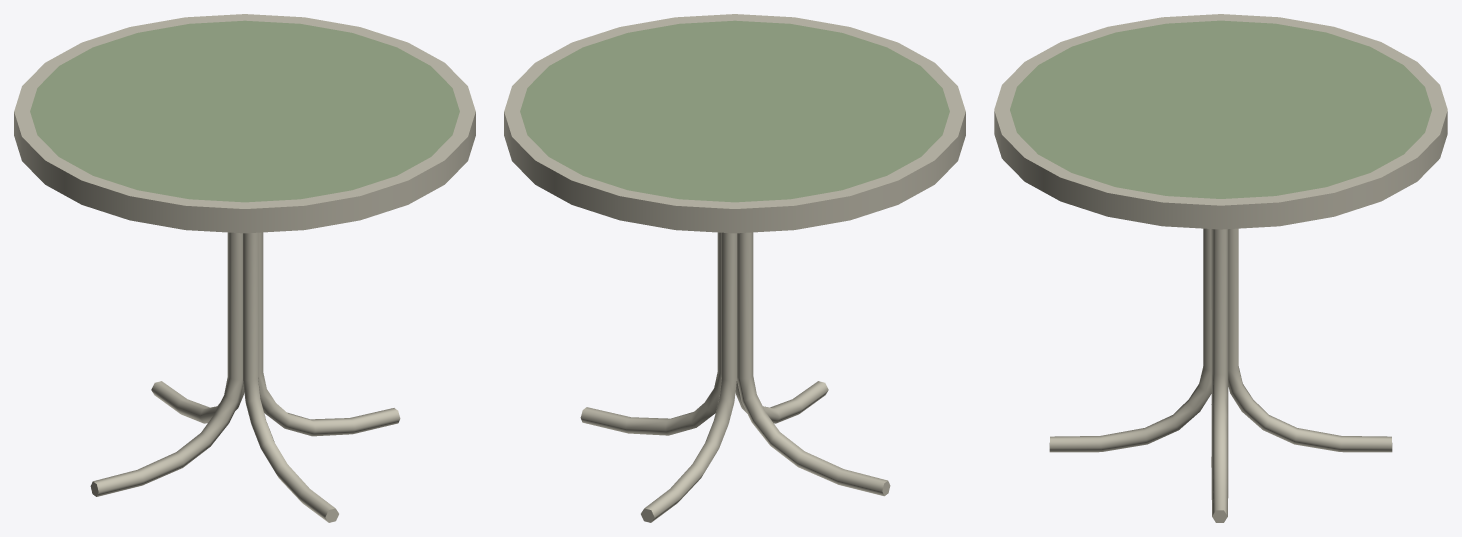
The model's file is KitchenTable_02.fbx.
3 views of the same model, side by side, from view 1: azimuth 30°, elevation 25°; view 2: azimuth 150°, elevation 25°; view 3: azimuth 270°, elevation 25° (orthographic).
Visible parts, largest first — view 1: KitchenTable_02; view 2: KitchenTable_02; view 3: KitchenTable_02.
Part boxes in pixels (x1,y1,x2,y2): KitchenTable_02: [14, 14, 475, 522]; KitchenTable_02: [504, 14, 965, 522]; KitchenTable_02: [994, 14, 1447, 522].
Size of the model in its own units: 1.01 by 0.8353 by 1.01.
